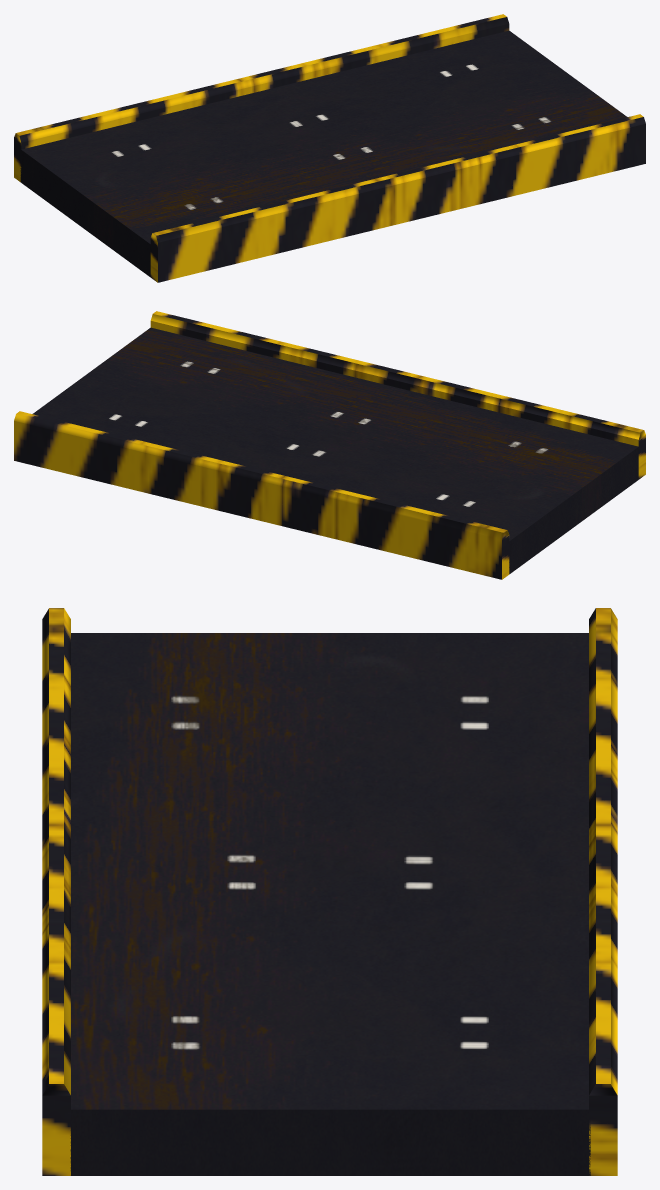
The model's file is Obstacle3.fbx.
3 renders of one model, top to bottom at view 1: azimuth 30°, elevation 25°; view 2: azimuth 150°, elevation 25°; view 3: azimuth 270°, elevation 25°, orthographic. The views are drawn at different scales.
Visible parts, largest first — view 1: Platform3; view 2: Platform3; view 3: Platform3.
Boxes of the visible parts, bbox=[...] form: Platform3: bbox=[14, 14, 645, 282]; Platform3: bbox=[14, 311, 645, 579]; Platform3: bbox=[42, 608, 617, 1175].
Bounding box in the file's own units: 400 × 35.81 × 204.
